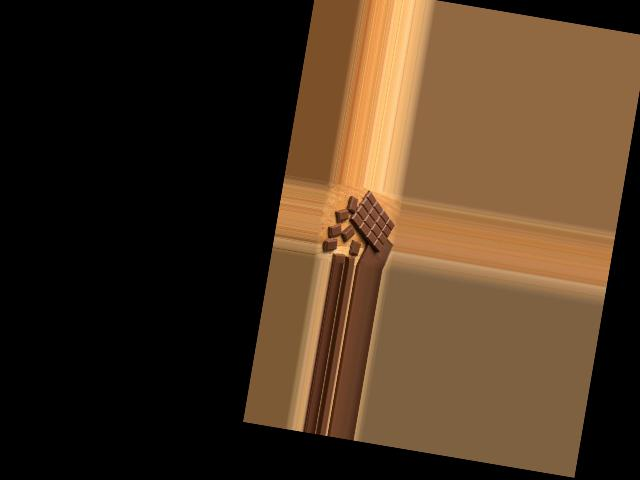chocolate: (342, 189, 399, 254)
